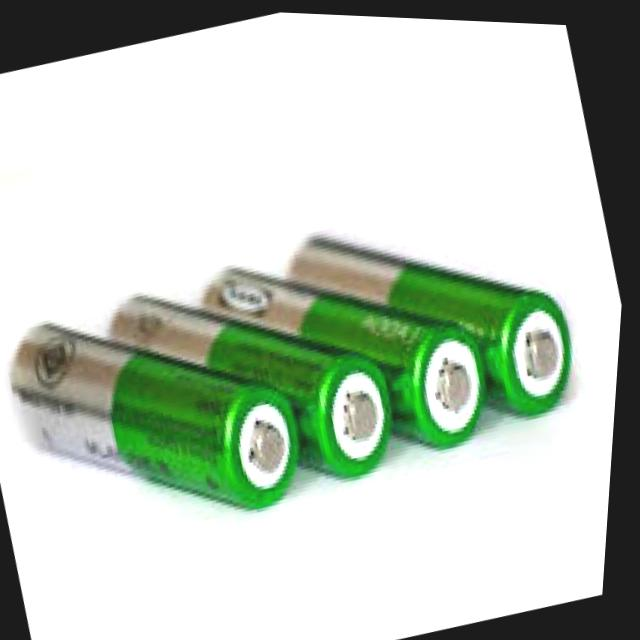B3: (0, 78, 636, 619)
